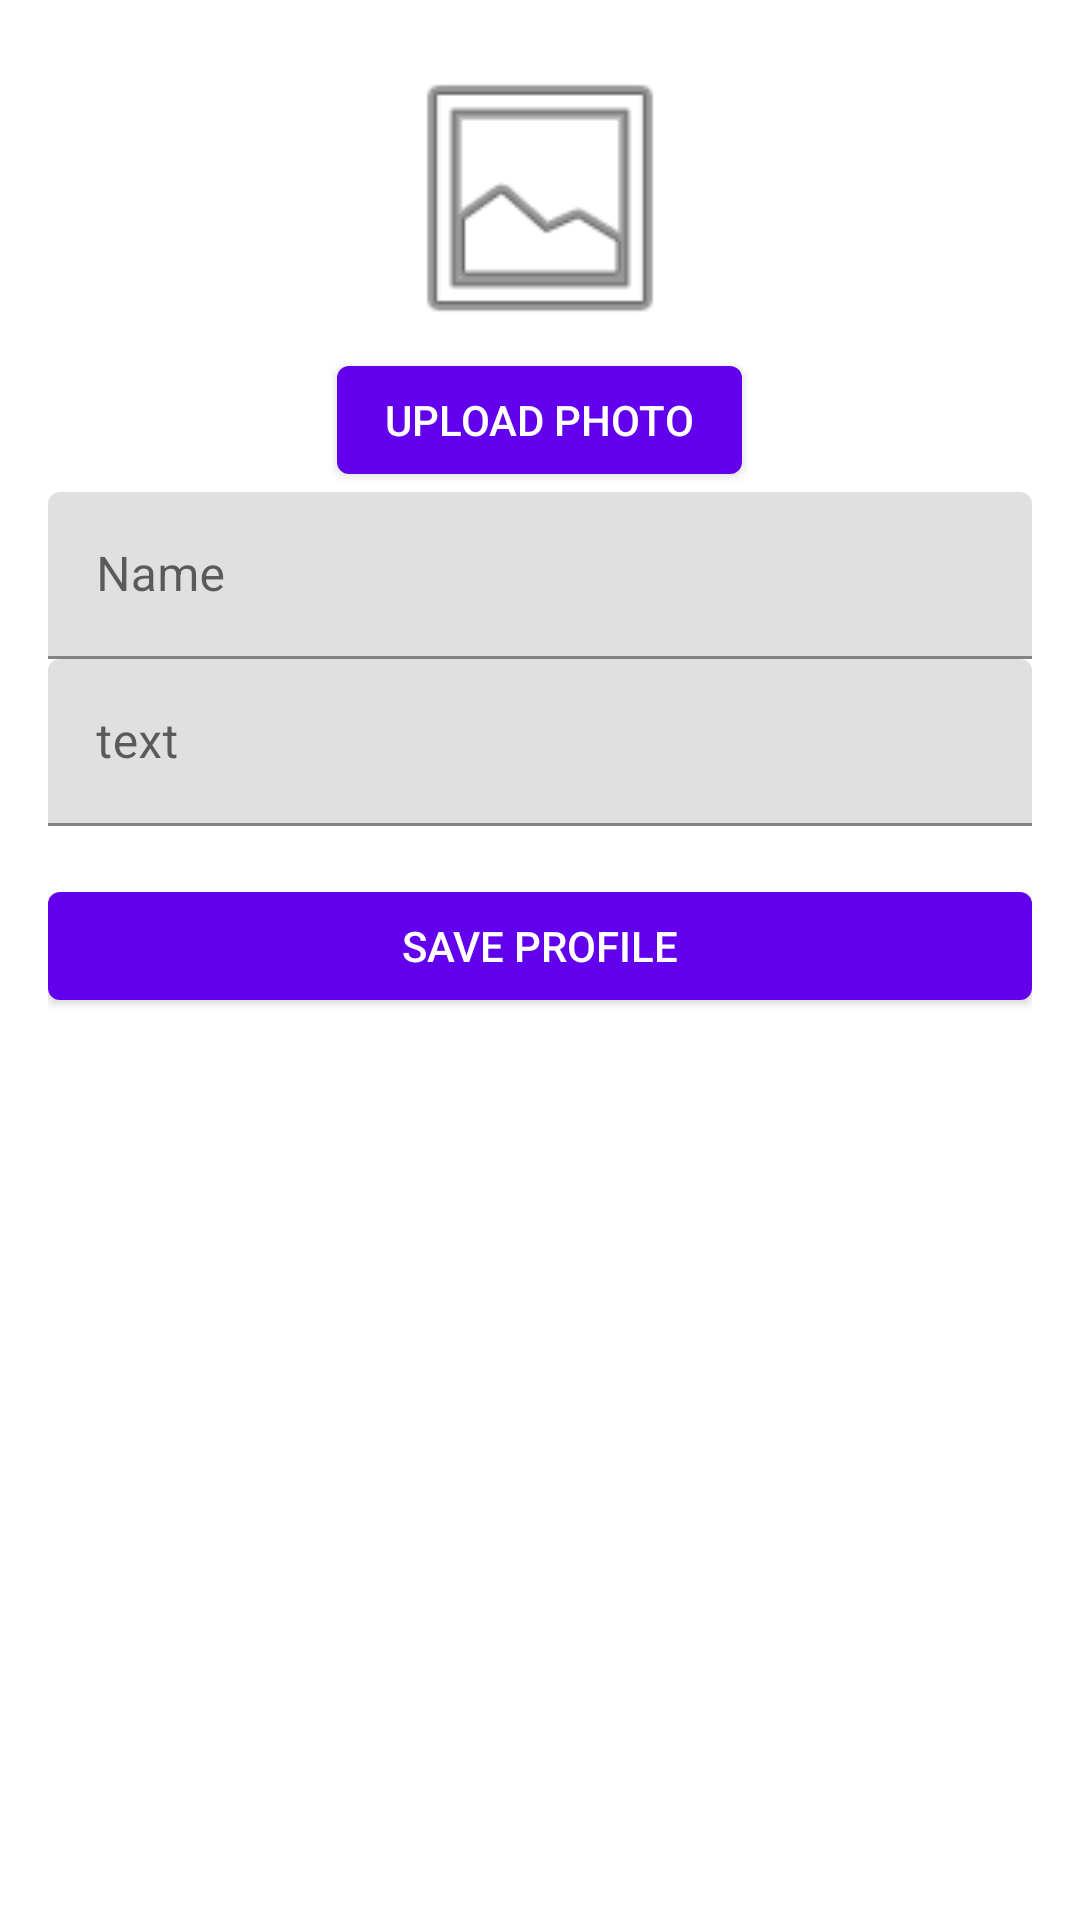

Where icons sit on this 1080x1920 app screen, as (x1=x1, y1=y1, x2=x2, y2=y2):
gallery: (x1=427, y1=85, x2=653, y2=311)
